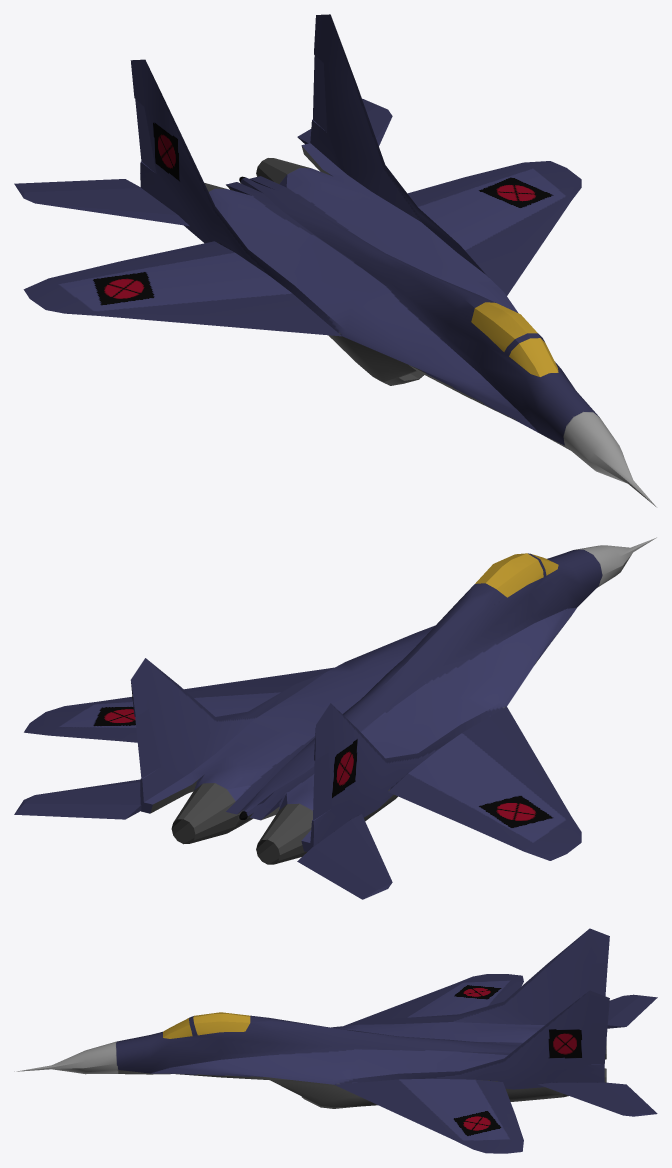
File: MiG-29.fbx
3 renders of one model, top to bottom at view 1: azimuth 30°, elevation 25°; view 2: azimuth 150°, elevation 25°; view 3: azimuth 270°, elevation 25°, orthographic. The views are drawn at different scales.
Parts seen in each view (by area): view 1: MiG-29Mod; view 2: MiG-29Mod; view 3: MiG-29Mod.
Boxes of the visible parts, x1,y1,x2,y2 form: MiG-29Mod: (14, 14, 656, 507); MiG-29Mod: (14, 537, 656, 899); MiG-29Mod: (14, 928, 657, 1153).
Size of the model in its own units: 1137 by 1722 by 400.
1 material, 1 textured.
